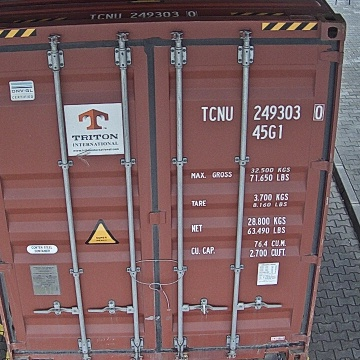serial_id: (200, 105, 323, 121)
